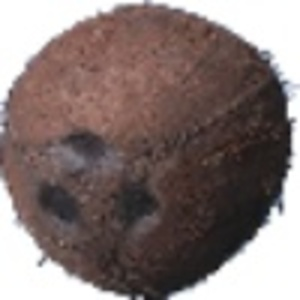coco: (1, 1, 300, 300)
